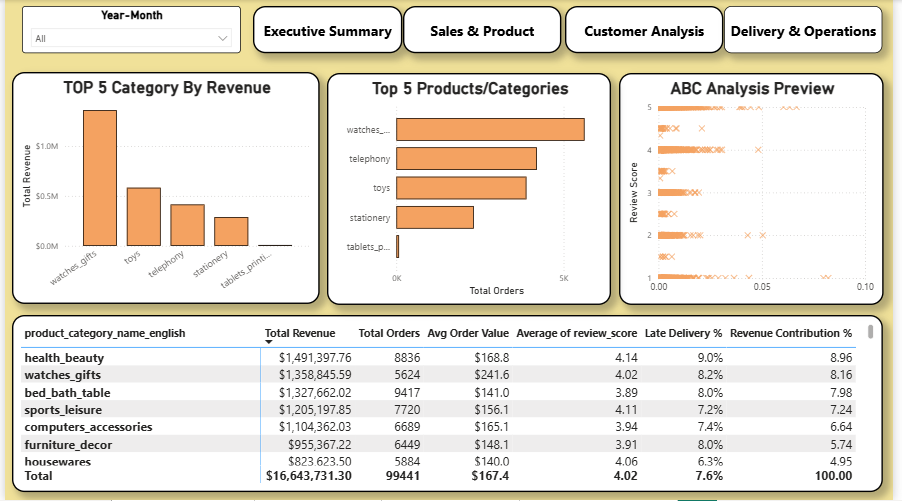

Layout of this report page (visuals, bound fields, positions):
{"tool":"powerbi","page":{"name":"Sales & Product","canvas":[1280,720],"ordinal":1},"visuals":[{"type":"actionButton","box":[356.7,8.3,215,68.3],"z":0},{"type":"actionButton","box":[573.3,8.3,228.3,68.3],"z":1000},{"type":"actionButton","box":[806.7,8.3,228.3,68.3],"z":2000},{"type":"actionButton","box":[1035,8.3,228.3,68.3],"z":3000},{"type":"clusteredColumnChart","title":"TOP 5  Category By  Revenue","fields":{"Category":["master_sales_data.product_category_name_english"],"Y":["master_sales_data.Total Revenue"]},"box":[10.4,103,443.3,334.3],"z":4000},{"type":"pivotTable","fields":{"Rows":["master_sales_data.product_category_name_english"],"Values":["master_sales_data.Total Revenue","master_sales_data.Total Orders","master_sales_data.Avg Order Value","Avg(master_sales_data.review_score)","master_sales_data.Late Delivery %","master_sales_data.Revenue Contribution %"]},"box":[10.4,453.7,1253.7,255.2],"z":5000},{"type":"scatterChart","title":"ABC Analysis Preview","fields":{"X":["master_sales_data.Revenue Contribution %"],"Y":["Avg(master_sales_data.review_score)"],"Category":["master_sales_data.order_id"]},"box":[883.6,104.5,380.6,334.3],"z":6000},{"type":"slicer","title":"Year-Month","fields":{"Values":["master_sales_data.Order Date"]},"box":[25,8.3,315,68.3],"z":7000},{"type":"clusteredBarChart","title":"Top 5 Products/Categories","fields":{"Category":["master_sales_data.product_category_name_english"],"Y":["master_sales_data.Total Orders"]},"box":[464.2,104.5,409,334.3],"z":8000}]}

Visuals, with their boxes in screenshot pixels (x1, y1, x2, y2), scaled from the page's 1280x720 canvas onto the 902x501 screenshot:
actionButton: detection(251, 6, 403, 53)
actionButton: detection(404, 6, 565, 53)
actionButton: detection(568, 6, 729, 53)
actionButton: detection(729, 6, 890, 53)
"TOP 5  Category By  Revenue" clusteredColumnChart: detection(7, 72, 320, 304)
pivotTable - master_sales_data.product_category_name_english x master_sales_data.Total Revenue: detection(7, 316, 891, 493)
"ABC Analysis Preview" scatterChart: detection(623, 73, 891, 305)
"Year-Month" slicer: detection(18, 6, 240, 53)
"Top 5 Products/Categories" clusteredBarChart: detection(327, 73, 615, 305)
